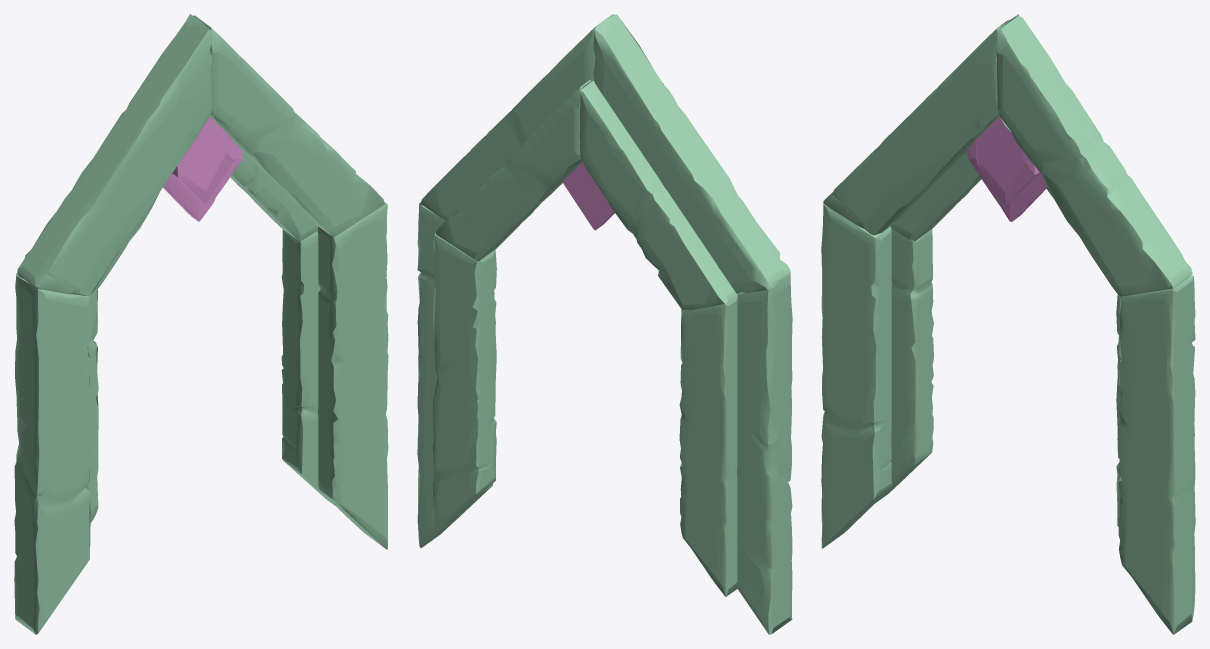
The model's file is Stone_gate_01_ornament_02.fbx.
3 renders of one model, left to right at view 1: azimuth 30°, elevation 25°; view 2: azimuth 150°, elevation 25°; view 3: azimuth 330°, elevation 25°, orthographic.
Parts seen in each view (by area): view 1: Stone_gate_01_ornament_02_LOD0; view 2: Stone_gate_01_ornament_02_LOD0; view 3: Stone_gate_01_ornament_02_LOD0.
Boxes of the visible parts, x1,y1,x2,y2 form: Stone_gate_01_ornament_02_LOD0: (14,14,388,634); Stone_gate_01_ornament_02_LOD0: (417,14,792,634); Stone_gate_01_ornament_02_LOD0: (821,14,1195,634).
Size of what is drawn, in the model's own units: 386 by 590 by 67.49.
